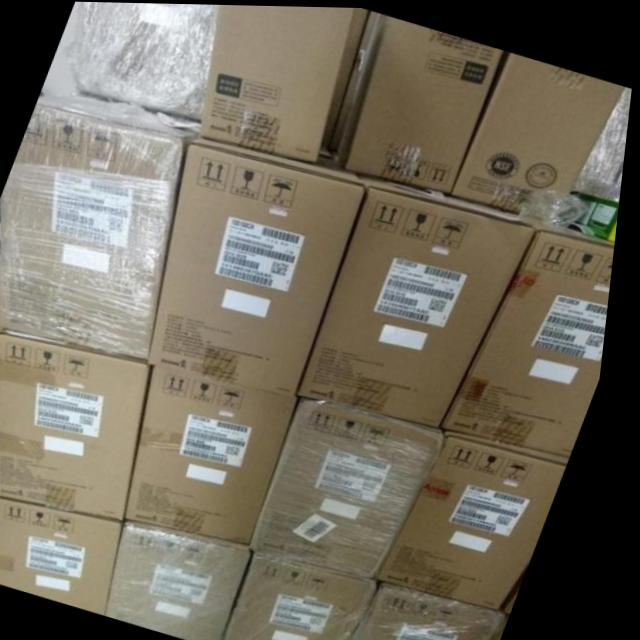box: (305, 172, 539, 428), (156, 134, 367, 396), (1, 94, 204, 360), (452, 209, 620, 456), (263, 395, 454, 580), (388, 431, 577, 611), (137, 364, 305, 543), (458, 49, 629, 221), (3, 331, 158, 520), (347, 13, 503, 193), (200, 4, 351, 161), (119, 517, 265, 640), (68, 1, 215, 118), (2, 496, 134, 614), (238, 548, 388, 640), (364, 579, 518, 640), (561, 186, 624, 236)
